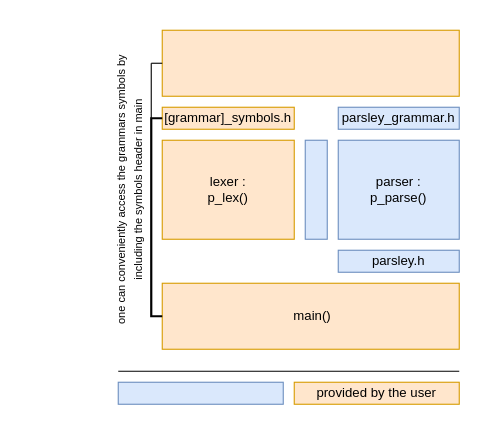
Some shapes in this 488 by 433 pixel diagram are drawn without their labels. Here are the shapes that lost their labels. From the top down, the box of each, then its label:
(161, 29, 459, 96): grammar : [user_files]
(304, 139, 327, 239): parsley_lex.h
(117, 381, 283, 404): provided by parsley
